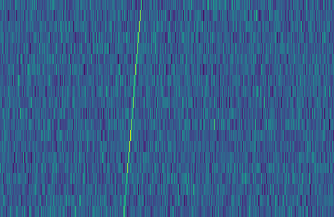signal: (118, 0, 146, 217)
